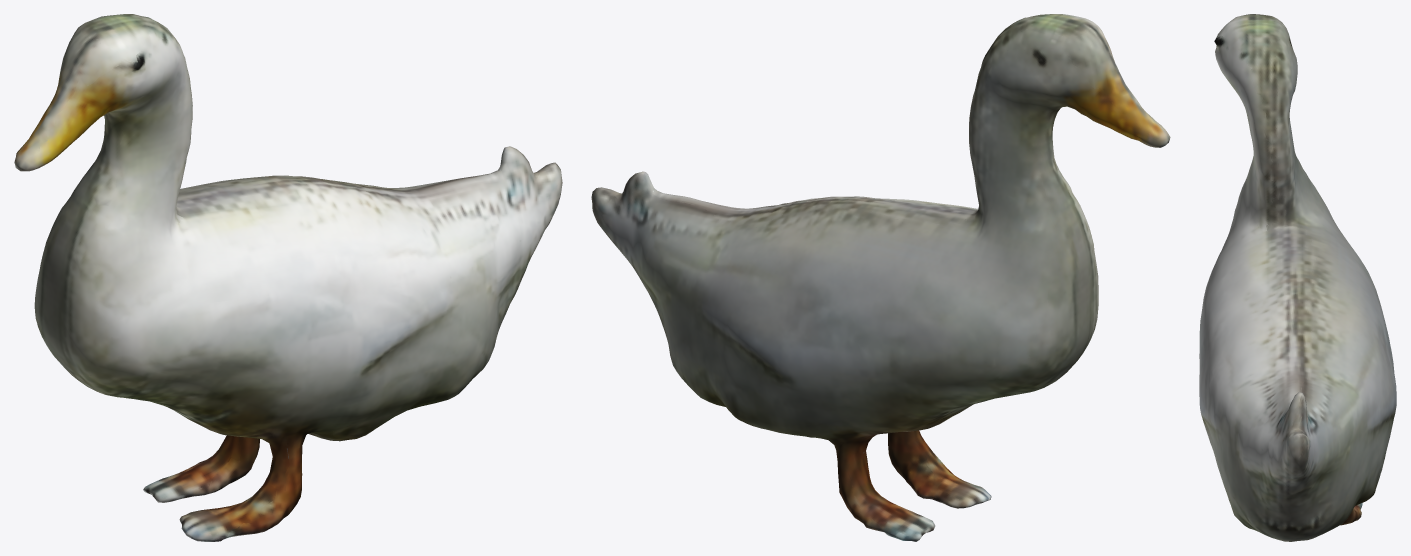
File: joven.glb
3 renders of one model, left to right at view 1: azimuth 30°, elevation 25°; view 2: azimuth 150°, elevation 25°; view 3: azimuth 270°, elevation 25°, orthographic. The views are drawn at different scales.
Visible parts, largest first — view 1: mesh; view 2: mesh; view 3: mesh.
Part boxes in pixels (x1=…): mesh: x1=14, y1=14, x2=562, y2=541; mesh: x1=591, y1=14, x2=1170, y2=541; mesh: x1=1199, y1=14, x2=1396, y2=541.
Bounding box in the file's own units: 1.73 × 1.53 × 0.6199.
1 material, 1 textured.
